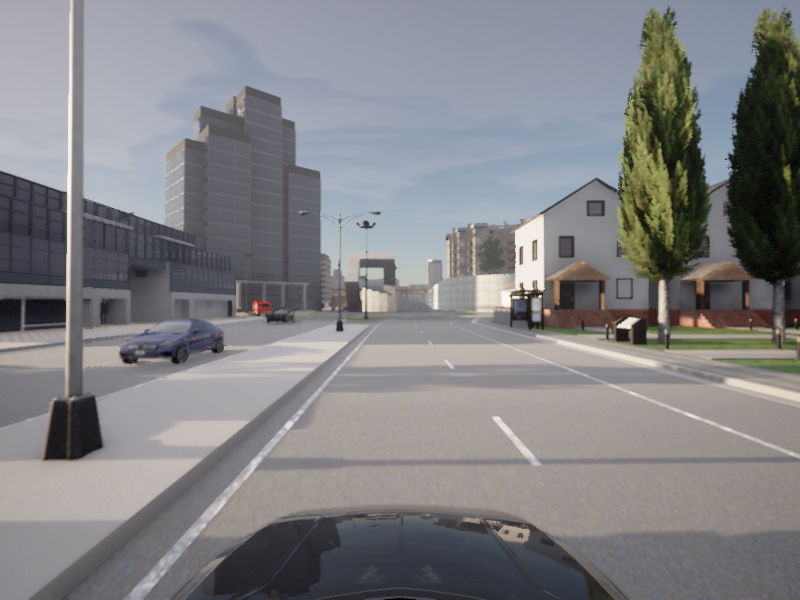vehicle: (110, 317, 231, 367), (262, 307, 296, 324)
